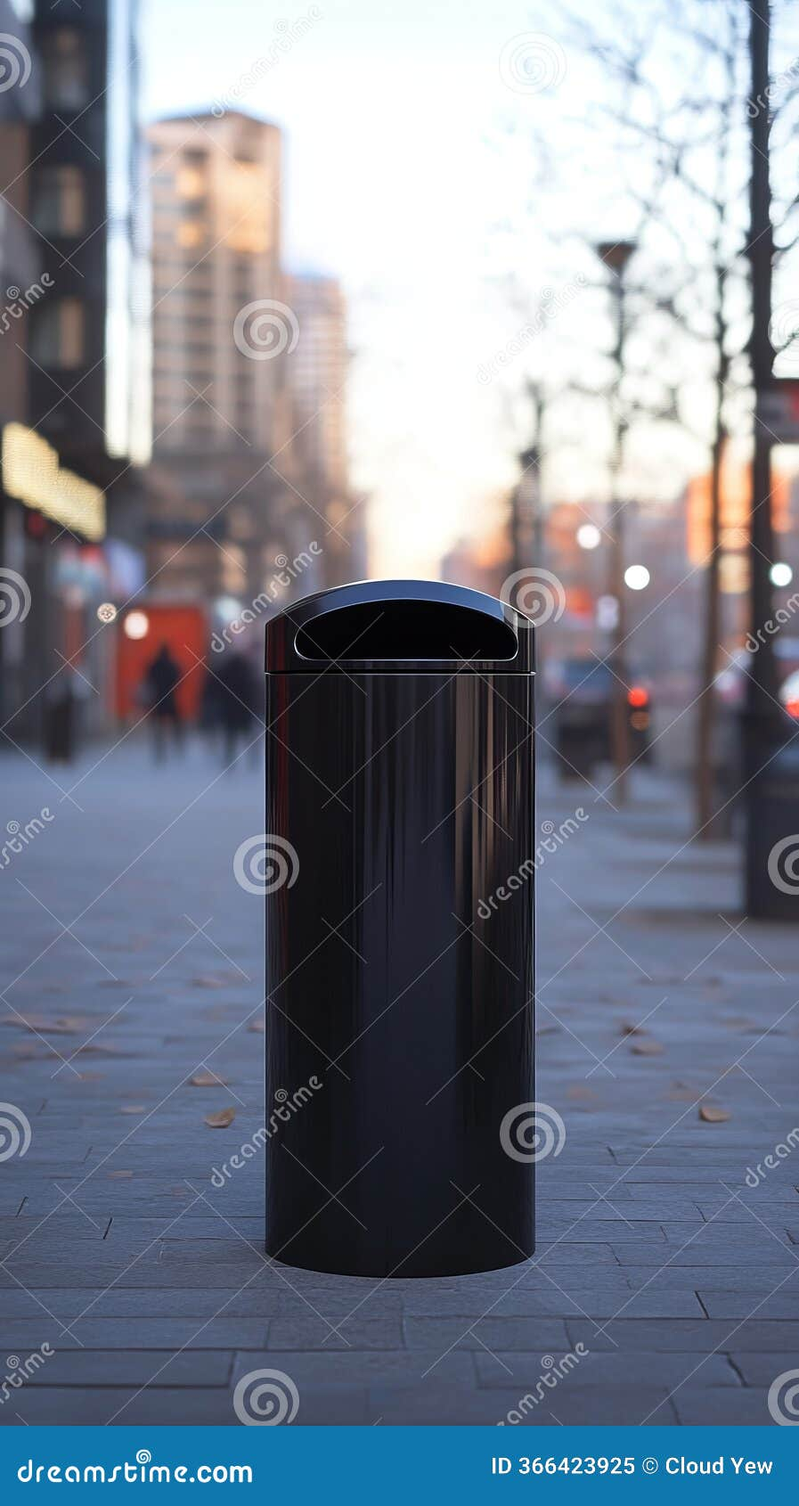TrashBin: (224, 567, 586, 1303)
